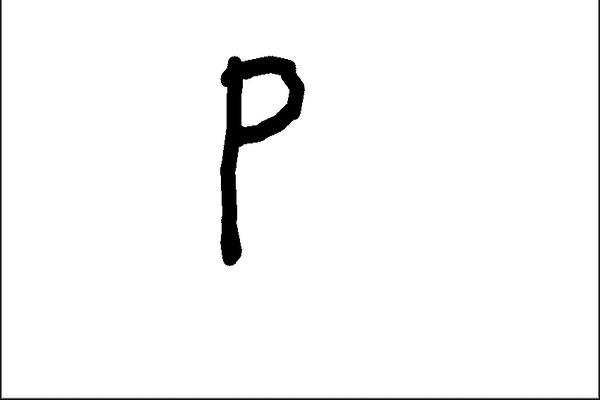P: (206, 49, 318, 269)
